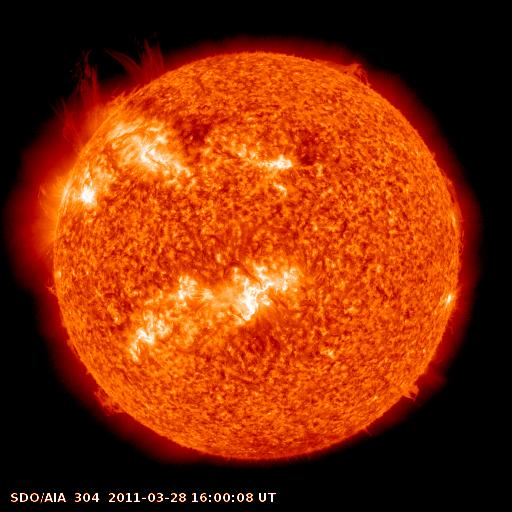prominence: (52, 24, 184, 158), (432, 166, 475, 265), (40, 283, 87, 369), (306, 50, 374, 90), (85, 380, 142, 424), (393, 375, 430, 412)
